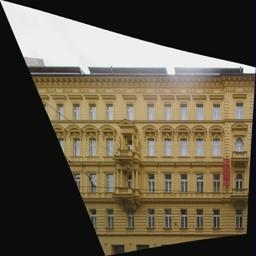building: (27, 61, 256, 254)
